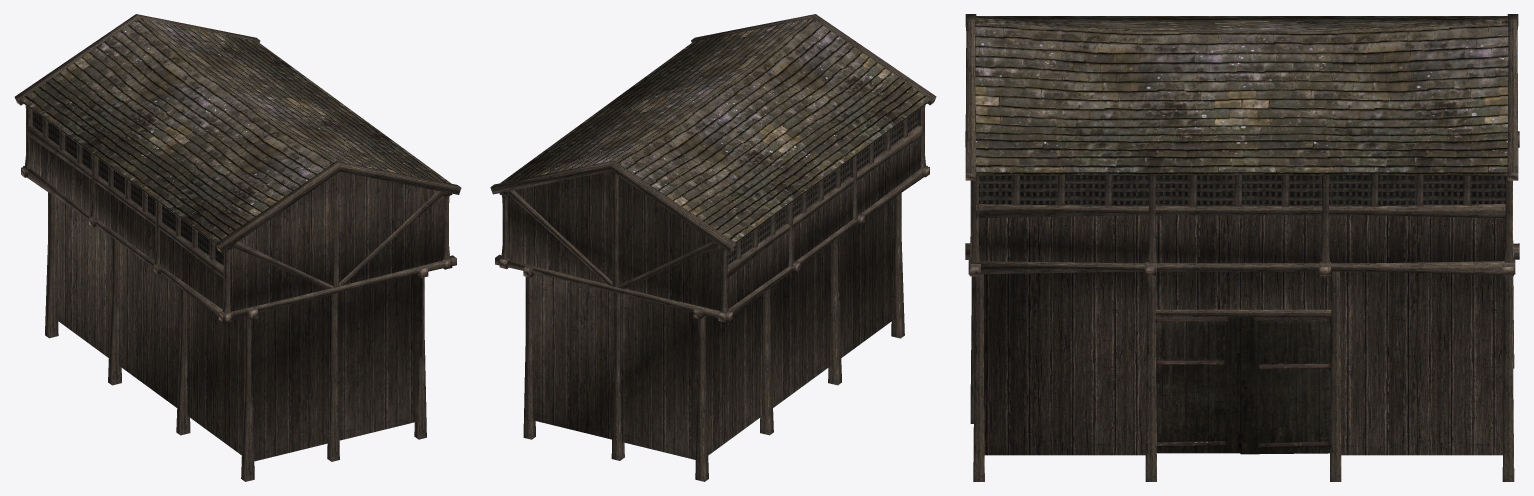
File: gv_obj_oldcity_03.fbx
3 renders of one model, left to right at view 1: azimuth 30°, elevation 25°; view 2: azimuth 150°, elevation 25°; view 3: azimuth 270°, elevation 25°, orthographic. The views are drawn at different scales.
Visible parts, largest first — view 1: BASE; view 2: BASE; view 3: BASE.
Part boxes in pixels (bbox=[...]): BASE: bbox=[14, 14, 461, 481]; BASE: bbox=[490, 14, 936, 481]; BASE: bbox=[965, 14, 1519, 481].
Size of the model in its own units: 846 by 994 by 1244.
